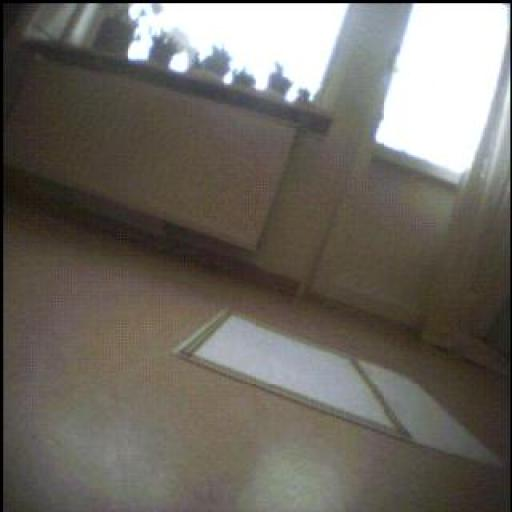Pad: (190, 305, 506, 473)
